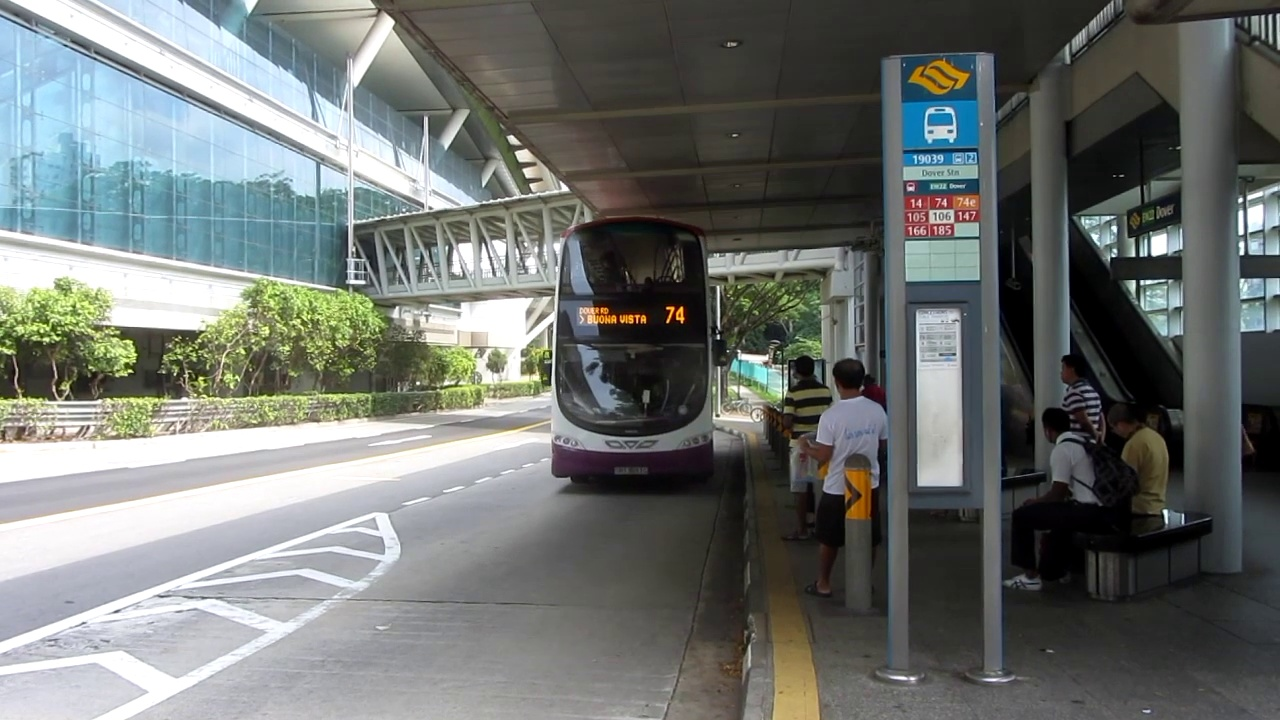bus panel: (574, 303, 691, 328)
